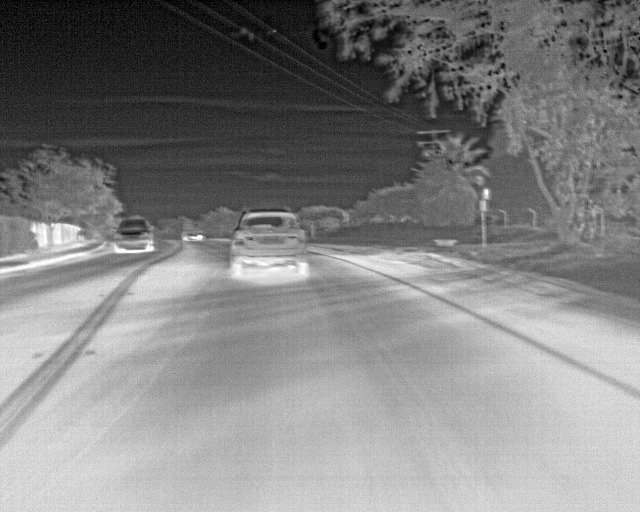vehicle: (229, 211, 307, 278), (116, 215, 157, 255)
